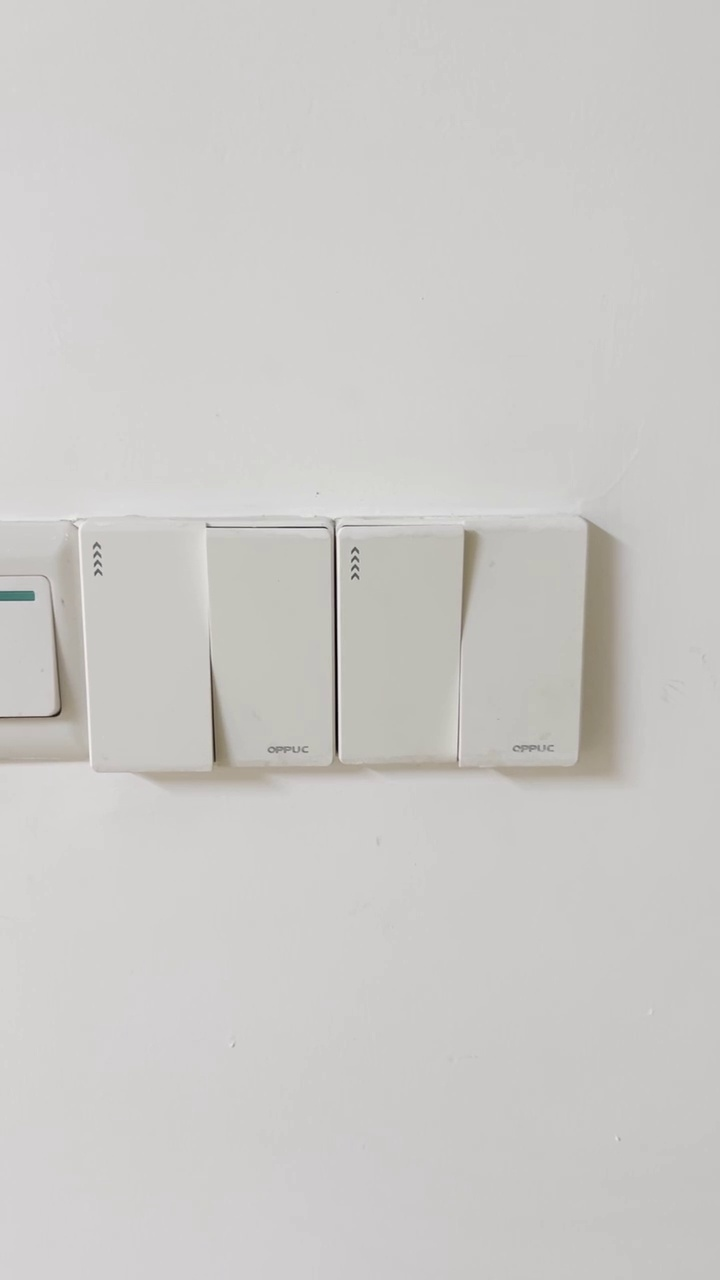button1: (86, 526, 209, 763), (341, 529, 461, 764), (216, 529, 334, 764), (467, 526, 579, 764)
